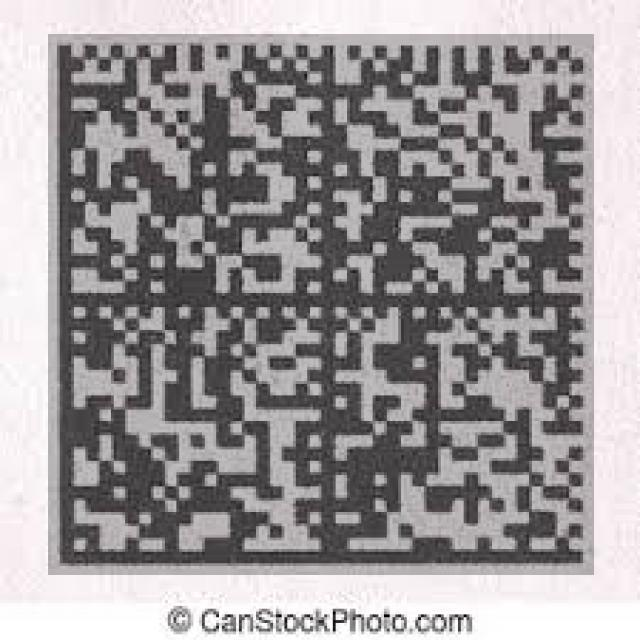DataMatrix: (48, 34, 594, 575)
